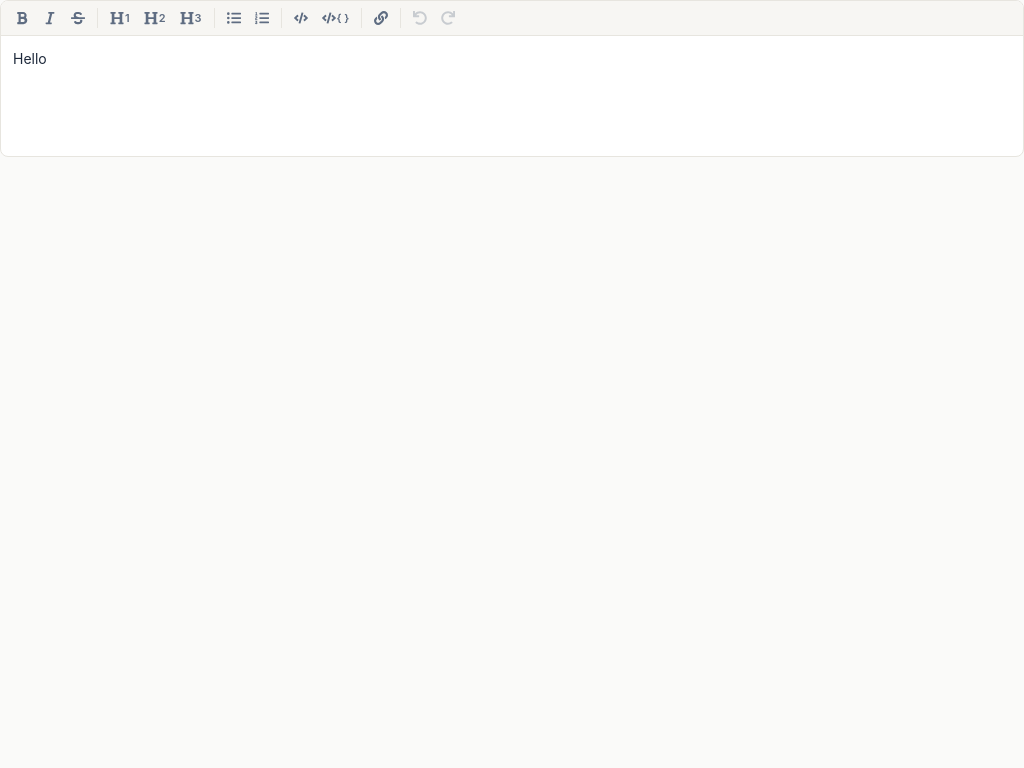
Scenario: RichTextEditor › asks for the link URL in an in-app dialog instead of the native prompt
The image size is (1024, 768).
Click the button titled "Add Link" at (381, 18), box [368, 7, 394, 29]
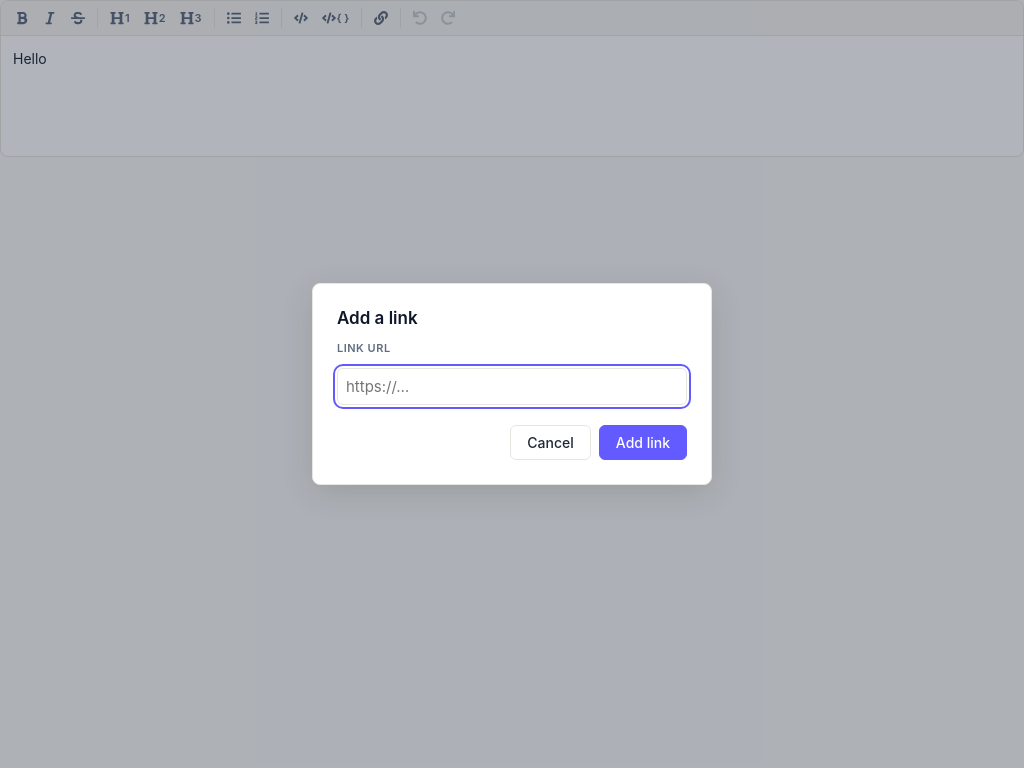
Result: the dialog shows "Add a link" at [337, 308, 418, 328]
# Escape closes the prompt dialog and applies nothing.
Press Escape
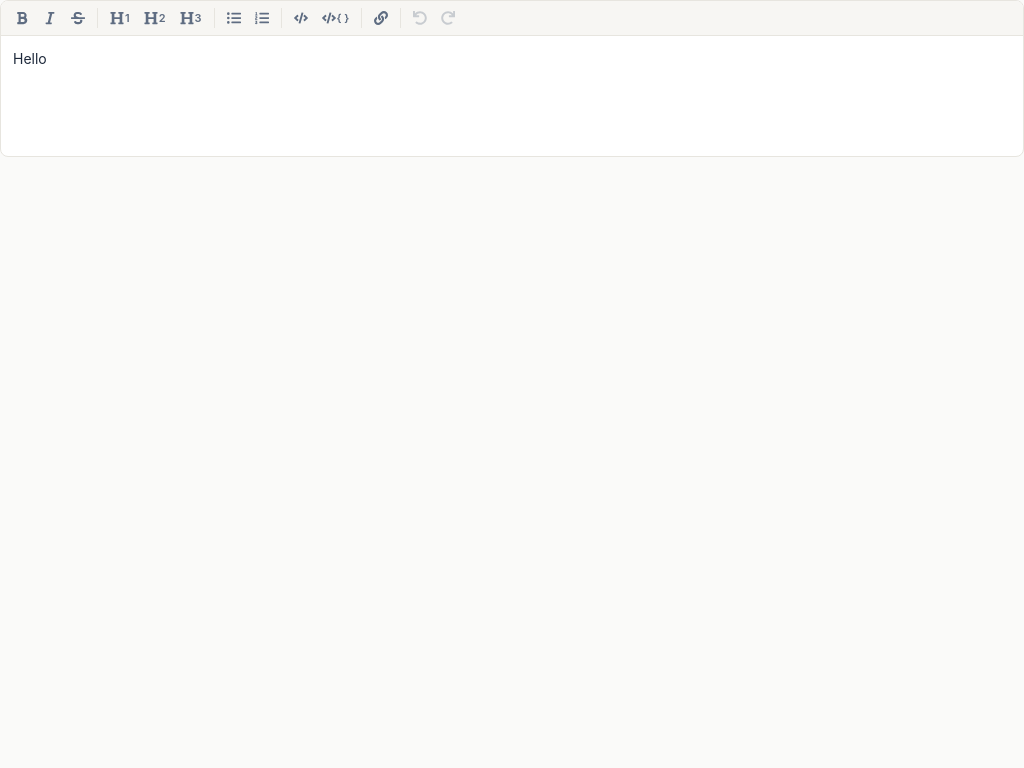
Result: the dialog is gone
